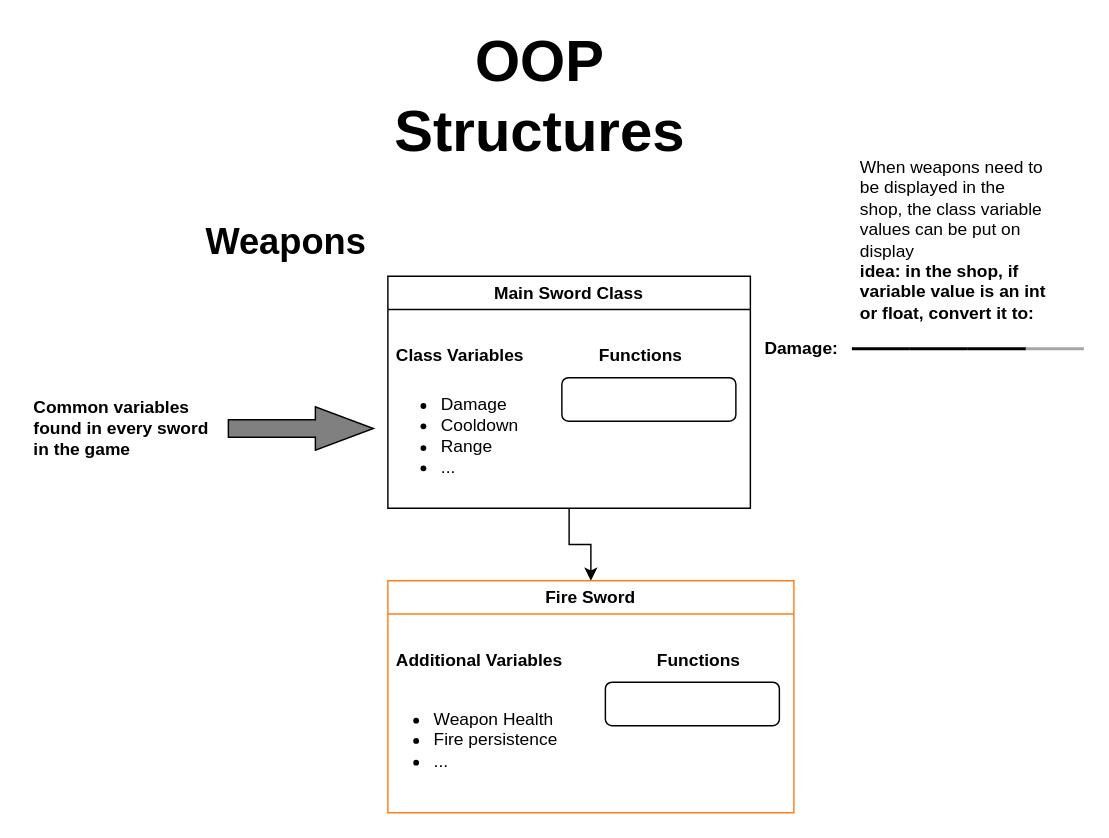
The diagram is 1109 pixels wide and 838 high, and some of its shapes have lost their labels. Each missing label, with the centre of its shape:
"Fire Storm?" goes at point 691,703.
"Swing" goes at point 648,398.
